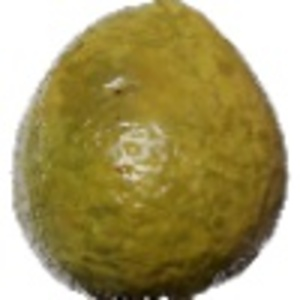goiaba: (7, 5, 289, 296)
